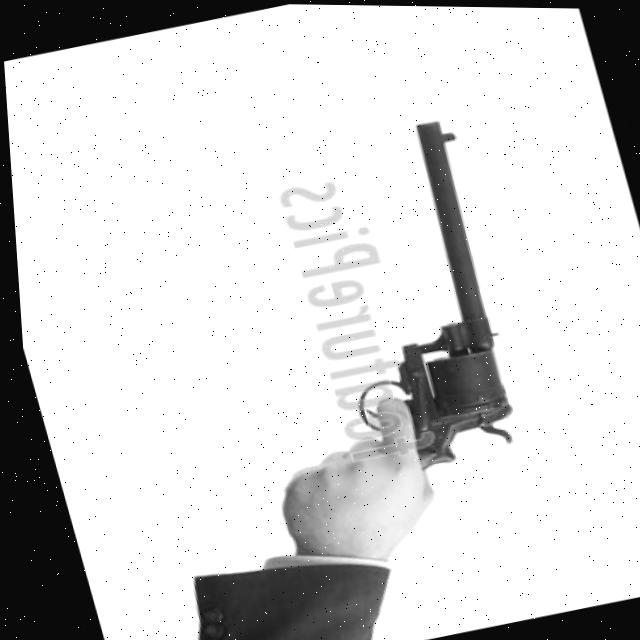pistol: (280, 112, 541, 478)
